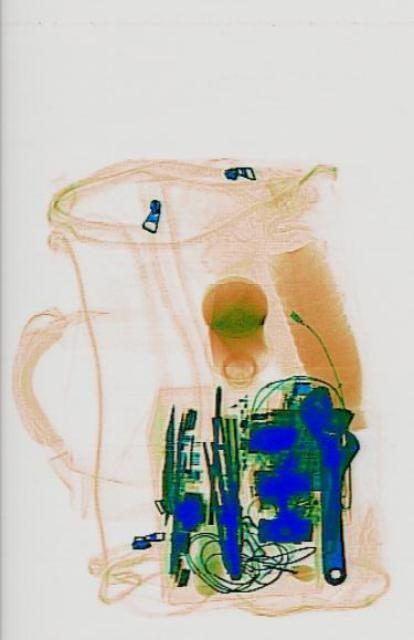Wrench: (294, 381, 363, 589)
